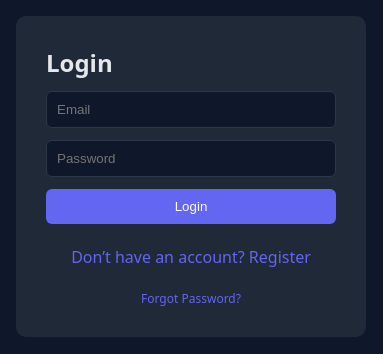
Scenario: Login Component › Successful Login › should disable login button during submission
The width and height of the screenshot is (383, 354).
Type "test@example.com" into the field with placeholder "Email".
click(191, 109); type("test@example.com")  # box x1=46 y1=90 x2=336 y2=128
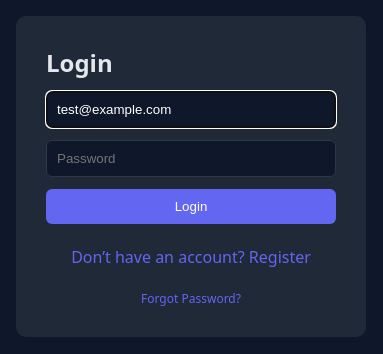
Type "password123" into the password field with placeholder "Password".
click(191, 158); type("password123")  # box x1=46 y1=140 x2=336 y2=176
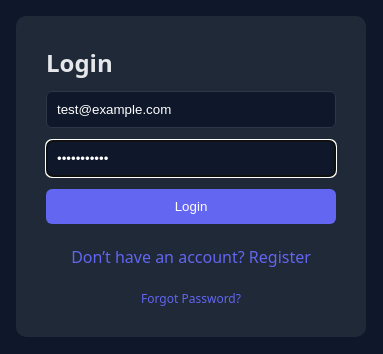
Click the button "Login".
click(191, 206)  # box x1=46 y1=188 x2=336 y2=224
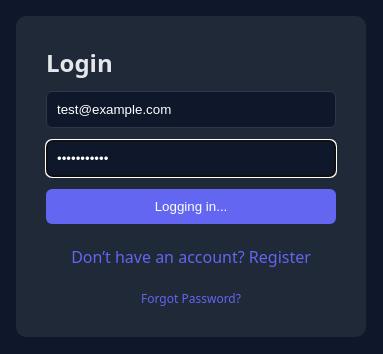
expect the button "Logging in..." is disabled: met, box x1=46 y1=188 x2=336 y2=224
